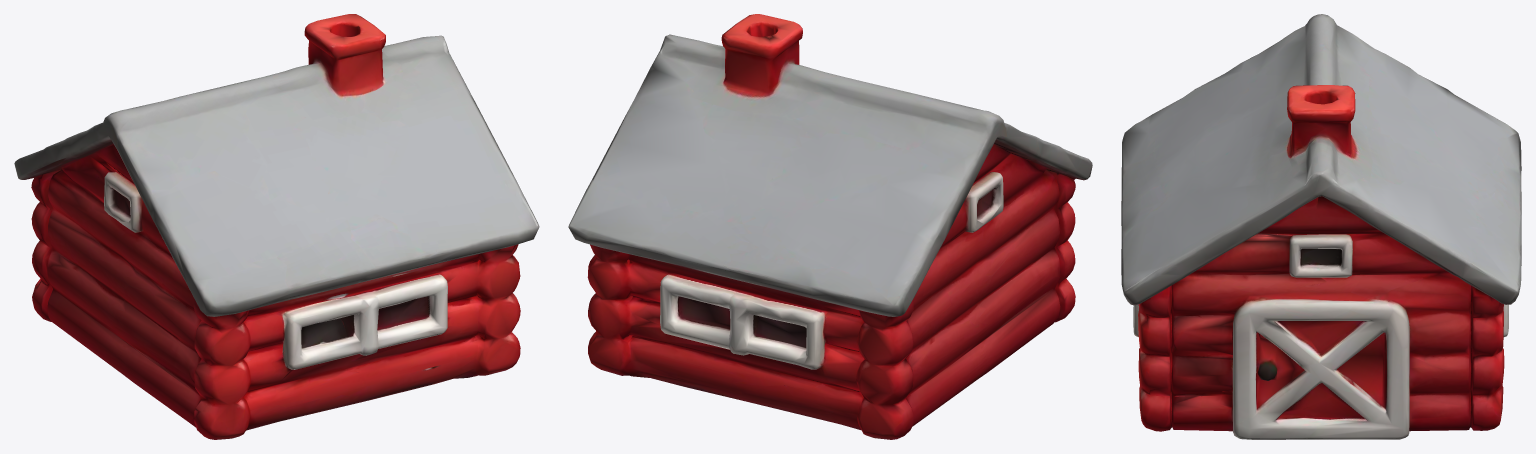
Rendered from barn.glb.
3 views of the same model, side by side, from view 1: azimuth 30°, elevation 25°; view 2: azimuth 150°, elevation 25°; view 3: azimuth 270°, elevation 25° (orthographic).
Parts seen in each view (by area): view 1: tripo_node_76cb3ddd-d2d6-483b-b75b-d7dcd00d8a84; view 2: tripo_node_76cb3ddd-d2d6-483b-b75b-d7dcd00d8a84; view 3: tripo_node_76cb3ddd-d2d6-483b-b75b-d7dcd00d8a84.
Part boxes in pixels (left/top/right/bottom): tripo_node_76cb3ddd-d2d6-483b-b75b-d7dcd00d8a84: left=14, top=14, right=539, bottom=439; tripo_node_76cb3ddd-d2d6-483b-b75b-d7dcd00d8a84: left=568, top=14, right=1092, bottom=439; tripo_node_76cb3ddd-d2d6-483b-b75b-d7dcd00d8a84: left=1121, top=14, right=1521, bottom=439.
Bounding box in the file's own units: 0.9603 × 0.8225 × 1.
1 material, 1 textured.
